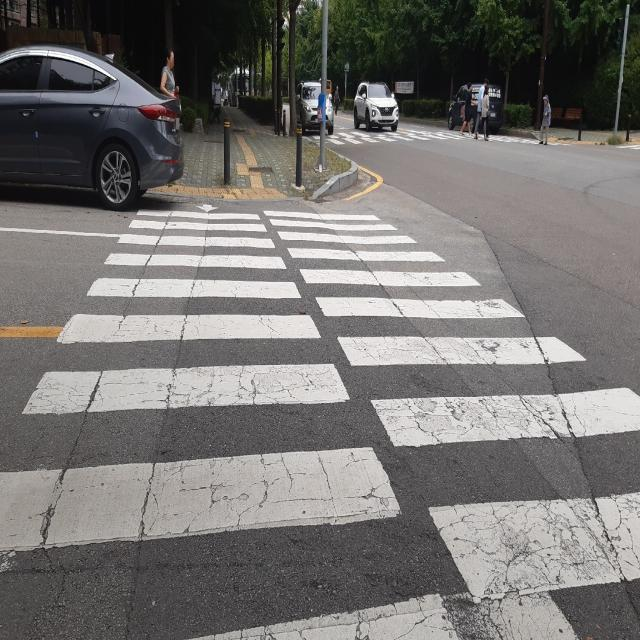횡단보도: (0, 202, 639, 640), (319, 132, 525, 142)
